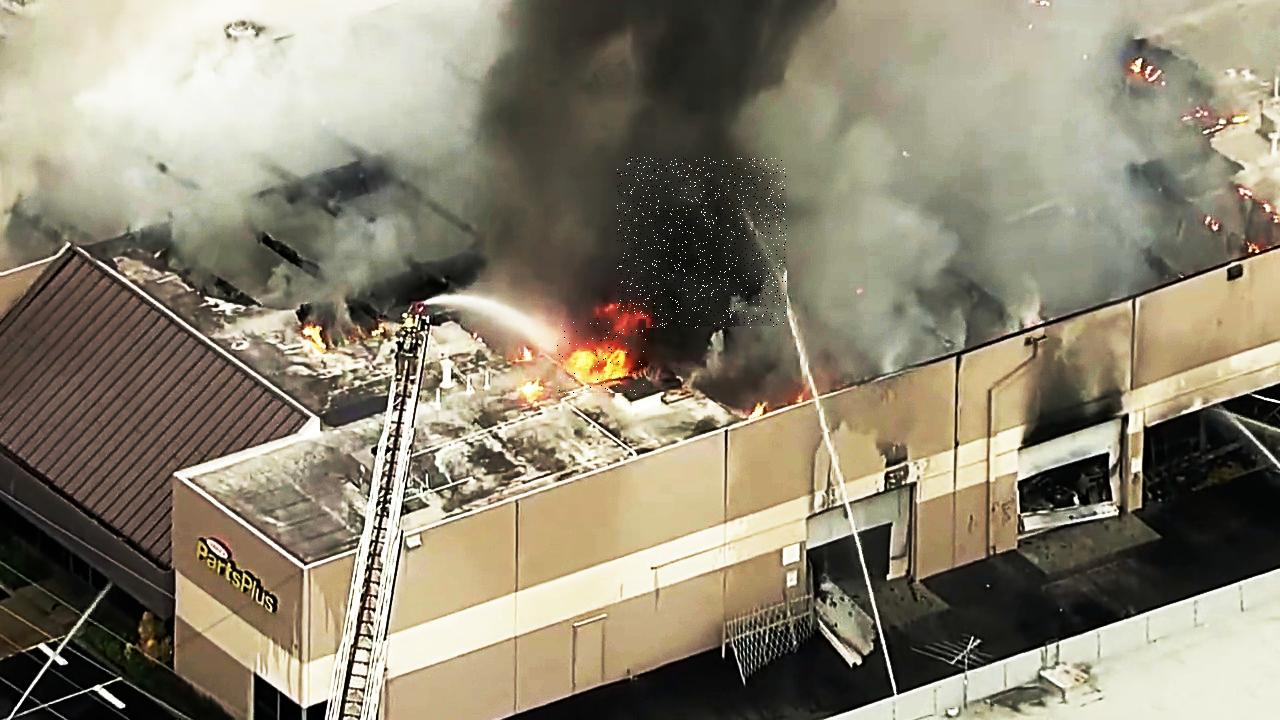fire: (557, 319, 646, 396)
smoke: (617, 157, 787, 328)
